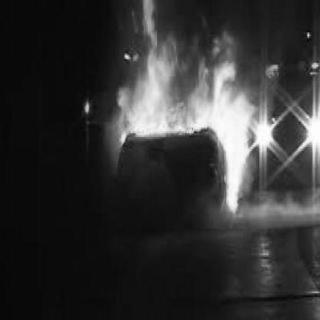Fire: (110, 0, 264, 209)
